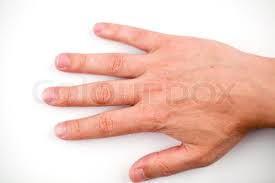hand: (23, 18, 260, 181)
